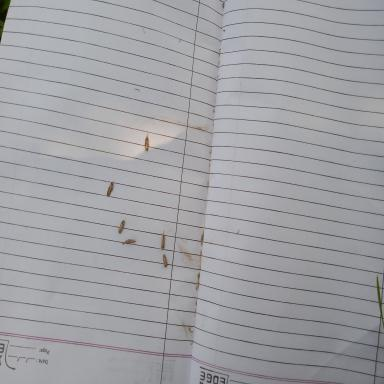pbw: (106, 182, 113, 197), (160, 230, 165, 250), (144, 132, 149, 152), (118, 220, 125, 233), (162, 253, 168, 267), (125, 238, 136, 243)
